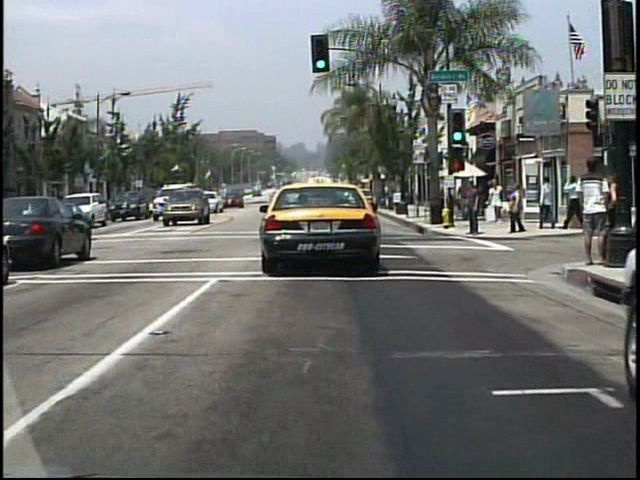person: (576, 153, 612, 267), (559, 172, 582, 230), (463, 182, 482, 239), (540, 174, 557, 230), (457, 179, 477, 226), (510, 182, 528, 233), (490, 179, 507, 226)
